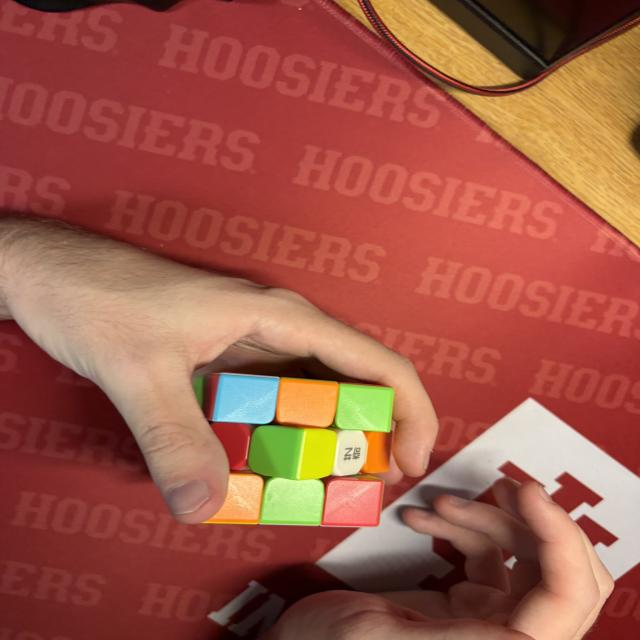Rubiks Cube: (190, 373, 394, 528)
